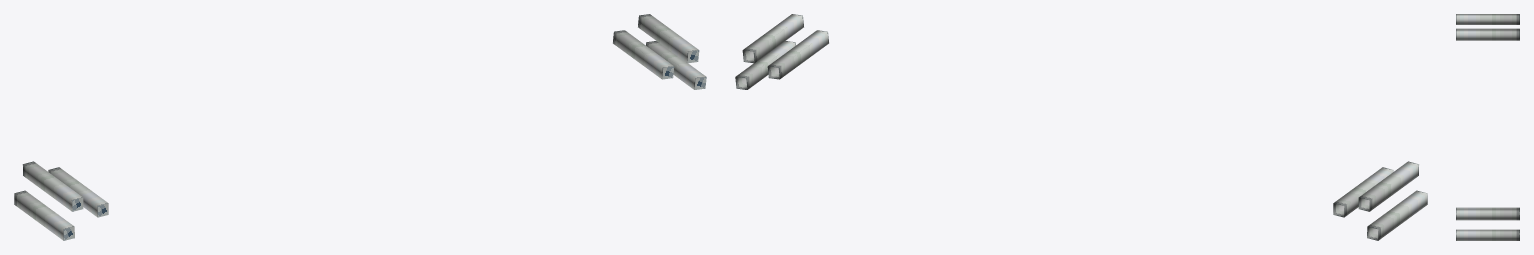
Rendered from hutt_fighter_light_weapon_s04_l2.fbx.
The picture shows the model from 3 angles, left to right: view 1: azimuth 30°, elevation 25°; view 2: azimuth 150°, elevation 25°; view 3: azimuth 270°, elevation 25°; orthographic projection. The views are drawn at different scales.
Visible parts, largest first — view 1: mesh_node; view 2: mesh_node; view 3: mesh_node.
Part boxes in pixels (<box>): mesh_node: <box>14,14,706,240</box>; mesh_node: <box>735,14,1427,240</box>; mesh_node: <box>1456,14,1519,240</box>.
Size of the model in its own units: 3.5 by 0.2234 by 0.4659.
Materials: 1 (1 with a texture image).
